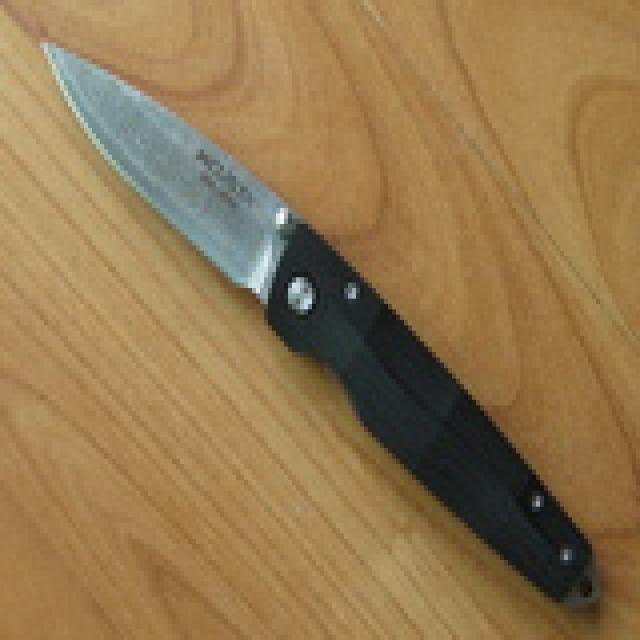Knife: (39, 31, 612, 611)
